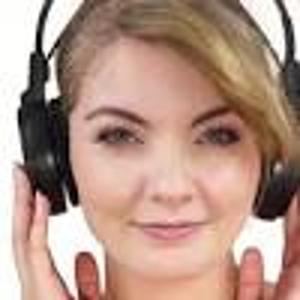Headphones: (16, 1, 300, 221)
